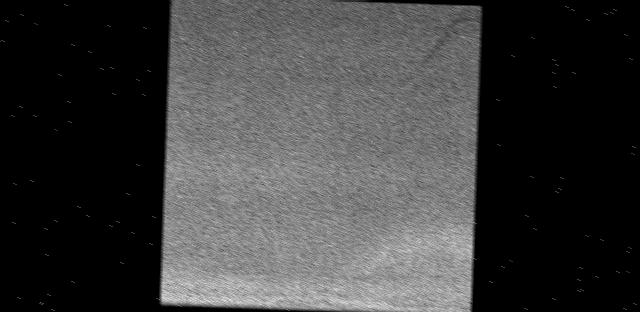water_spot: (411, 3, 482, 85)
